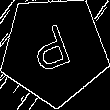P_S: (28, 20, 80, 81)
